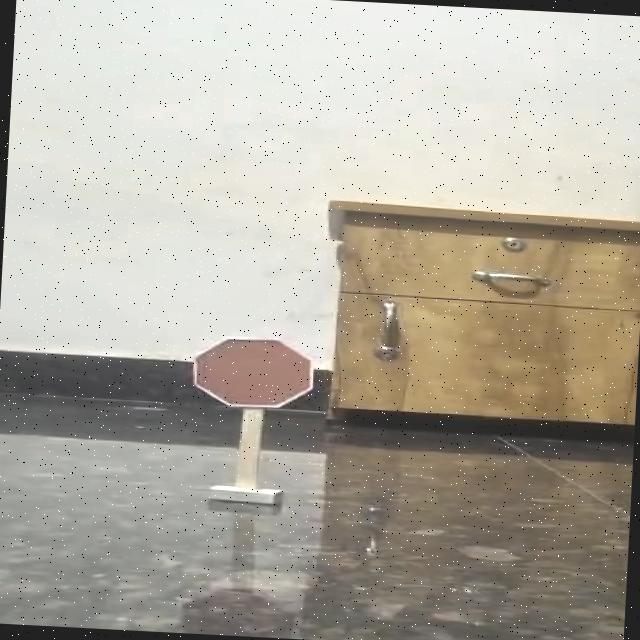Stop: (174, 326, 330, 424)
